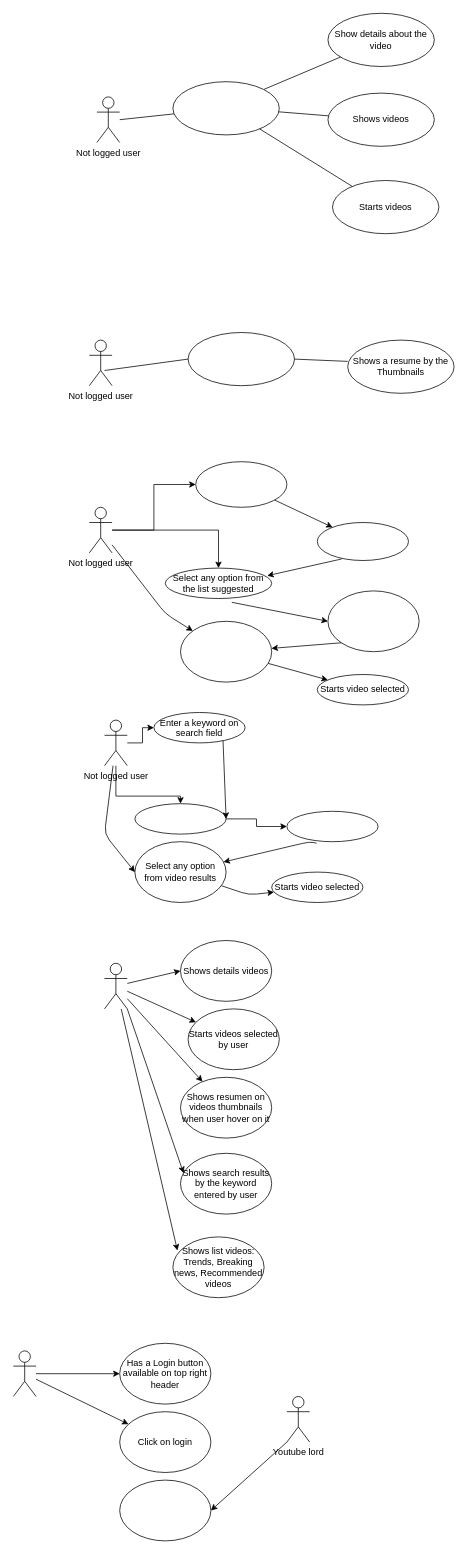
Some shapes in this 467 by 1554 pixel diagram are drawn without their labels. Each missing label, with the box of its shape:
Actor: (13, 1350, 36, 1396)
Enter keyword on Search field: (195, 461, 287, 507)
Hover a video Thumbnails: (187, 332, 294, 386)
Open login page: (119, 1479, 211, 1541)
Pressed search button: (134, 803, 226, 834)
Search results by option selected by the list suggested: (327, 590, 419, 652)
Search results by the keyword entered: (286, 811, 378, 842)
Search results displayed by relevance keyword entered: (317, 522, 408, 560)
Select any option video result: (180, 621, 272, 682)
Select Videos: Trends, Breaking News, Recommended: (172, 81, 279, 135)
Youtube app: (104, 963, 127, 1009)
